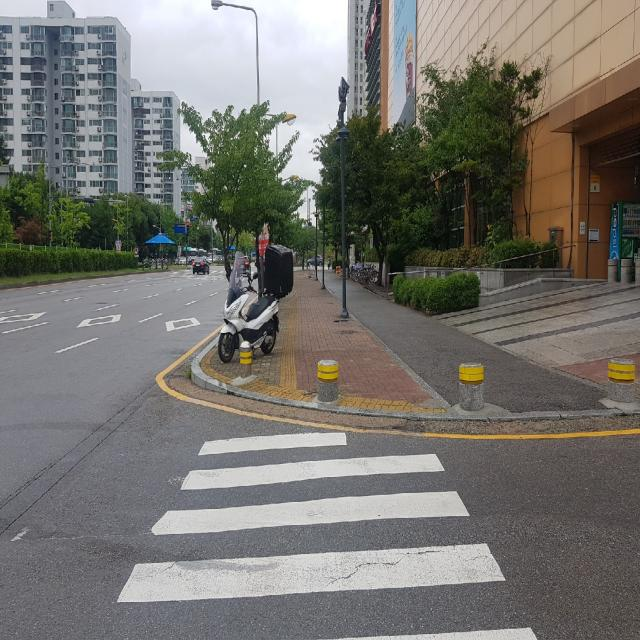횡단보도: (116, 431, 540, 639)
